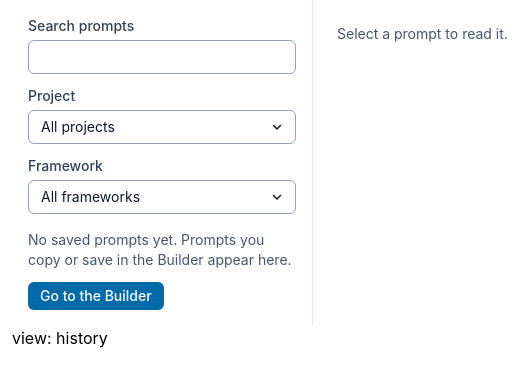
Test case: HistoryView list pane › empty_history_points_to_the_builder
expect the text "No saved prompts yet. Prompts you copy or save in the Builder appear here." is shown: met, box [28,230,296,270]
expect the text "view: history" is shown: met, box [12,328,108,348]
Click the button "Go to the Builder".
click(96, 296)  # box [28,282,164,310]
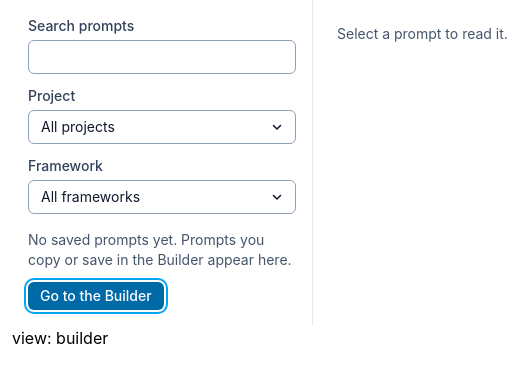
expect the text "view: builder" is shown: met, box [12,328,108,348]
